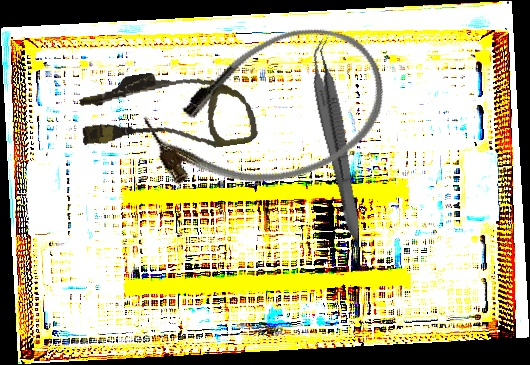Cannula: (131, 5, 406, 221), (75, 59, 259, 166)
Tissue Forceps: (302, 37, 374, 240)
